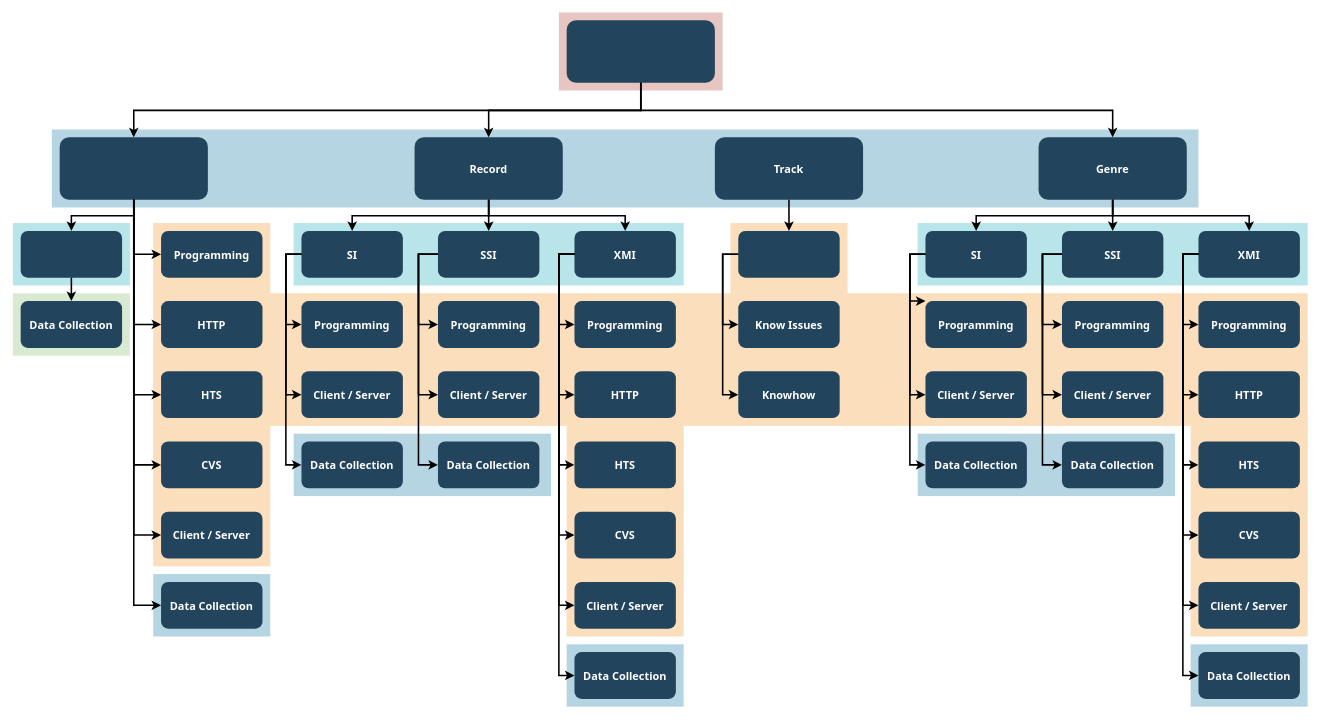
This 1321x719 diagram has some shape labels left out. Each missing label, with the box of its shape:
Artist: (59, 137, 207, 199)
FAQ: (738, 230, 839, 277)
Front Desk: (566, 20, 714, 82)
Regular Report: (20, 230, 122, 277)
